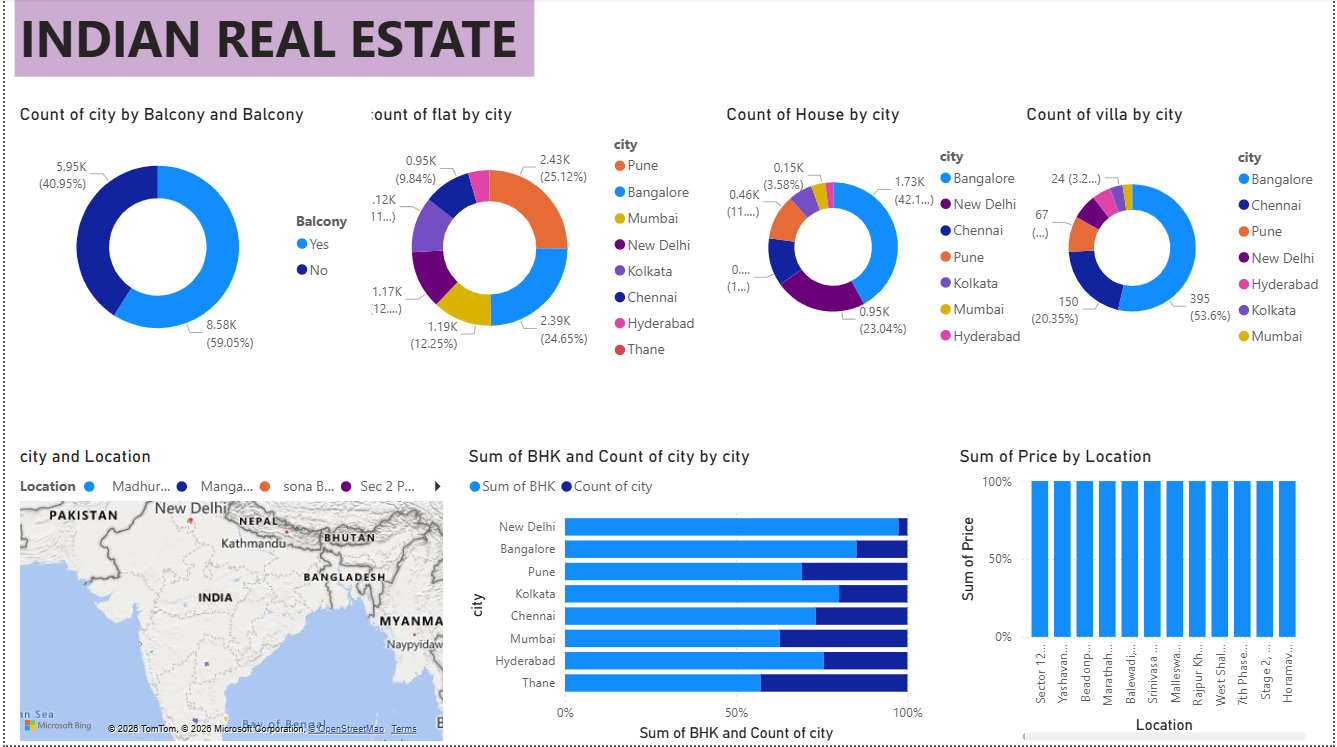

Layout of this report page (visuals, bound fields, positions):
{"tool":"powerbi","page":{"name":"Page 1","canvas":[1280,720],"ordinal":0},"visuals":[{"type":"textbox","box":[9.4,0,500.8,75.6],"z":0},{"type":"donutChart","title":"count of flat by city","fields":{"Category":["Indian_Real_Estate_Clean_Data2.city"],"Series":["Indian_Real_Estate_Clean_Data2.property_type"],"Y":["CountNonNull(Indian_Real_Estate_Clean_Data2.city)"]},"box":[342,102,336.4,258.9],"z":1000},{"type":"donutChart","title":"Count of House by city","fields":{"Category":["Indian_Real_Estate_Clean_Data2.city"],"Y":["CountNonNull(Indian_Real_Estate_Clean_Data2.city)"],"Series":["Indian_Real_Estate_Clean_Data2.property_type"]},"box":[689.8,102,302.4,257],"z":2000},{"type":"donutChart","title":"Count of villa by city","fields":{"Category":["Indian_Real_Estate_Clean_Data2.city"],"Series":["Indian_Real_Estate_Clean_Data2.property_type"],"Y":["CountNonNull(Indian_Real_Estate_Clean_Data2.property_type)"]},"box":[978.9,102,300.5,258.9],"z":3000},{"type":"donutChart","fields":{"Series":["Indian_Real_Estate_Clean_Data2.Balcony"],"Category":["Indian_Real_Estate_Clean_Data2.Balcony"],"Y":["CountNonNull(Indian_Real_Estate_Clean_Data2.city)"]},"box":[9.4,102,343.9,257],"z":4000},{"type":"filledMap","fields":{"Series":["Indian_Real_Estate_Clean_Data2.Location"],"Category":["Indian_Real_Estate_Clean_Data2.city"]},"box":[9.4,430.9,417.6,289.1],"z":5000},{"type":"hundredPercentStackedBarChart","fields":{"Y":["Sum(Indian_Real_Estate_Clean_Data2.BHK)","CountNonNull(Indian_Real_Estate_Clean_Data2.city)"],"Category":["Indian_Real_Estate_Clean_Data2.city"]},"box":[442.2,430.9,447.9,289.1],"z":6000},{"type":"hundredPercentStackedColumnChart","fields":{"Category":["Indian_Real_Estate_Clean_Data2.Location"],"Y":["Sum(Indian_Real_Estate_Clean_Data2.Price)"]},"box":[914.7,430.9,343.9,289.1],"z":7000}]}

Visuals, with their boxes in screenshot pixels (x1, y1, x2, y2), scaled from the page's 1280x720 canvas onto the 1337x747 screenshot:
textbox: x1=10, y1=0, x2=533, y2=78
"count of flat by city" donutChart: x1=357, y1=106, x2=709, y2=374
"Count of House by city" donutChart: x1=721, y1=106, x2=1036, y2=372
"Count of villa by city" donutChart: x1=1022, y1=106, x2=1336, y2=374
donutChart - Indian_Real_Estate_Clean_Data2.Balcony x Indian_Real_Estate_Clean_Data2.Balcony: x1=10, y1=106, x2=369, y2=372
filledMap - Indian_Real_Estate_Clean_Data2.Location x Indian_Real_Estate_Clean_Data2.city: x1=10, y1=447, x2=446, y2=746
hundredPercentStackedBarChart - Sum(Indian_Real_Estate_Clean_Data2.BHK) x CountNonNull(Indian_Real_Estate_Clean_Data2.city): x1=462, y1=447, x2=930, y2=746
hundredPercentStackedColumnChart - Indian_Real_Estate_Clean_Data2.Location x Sum(Indian_Real_Estate_Clean_Data2.Price): x1=955, y1=447, x2=1315, y2=746
